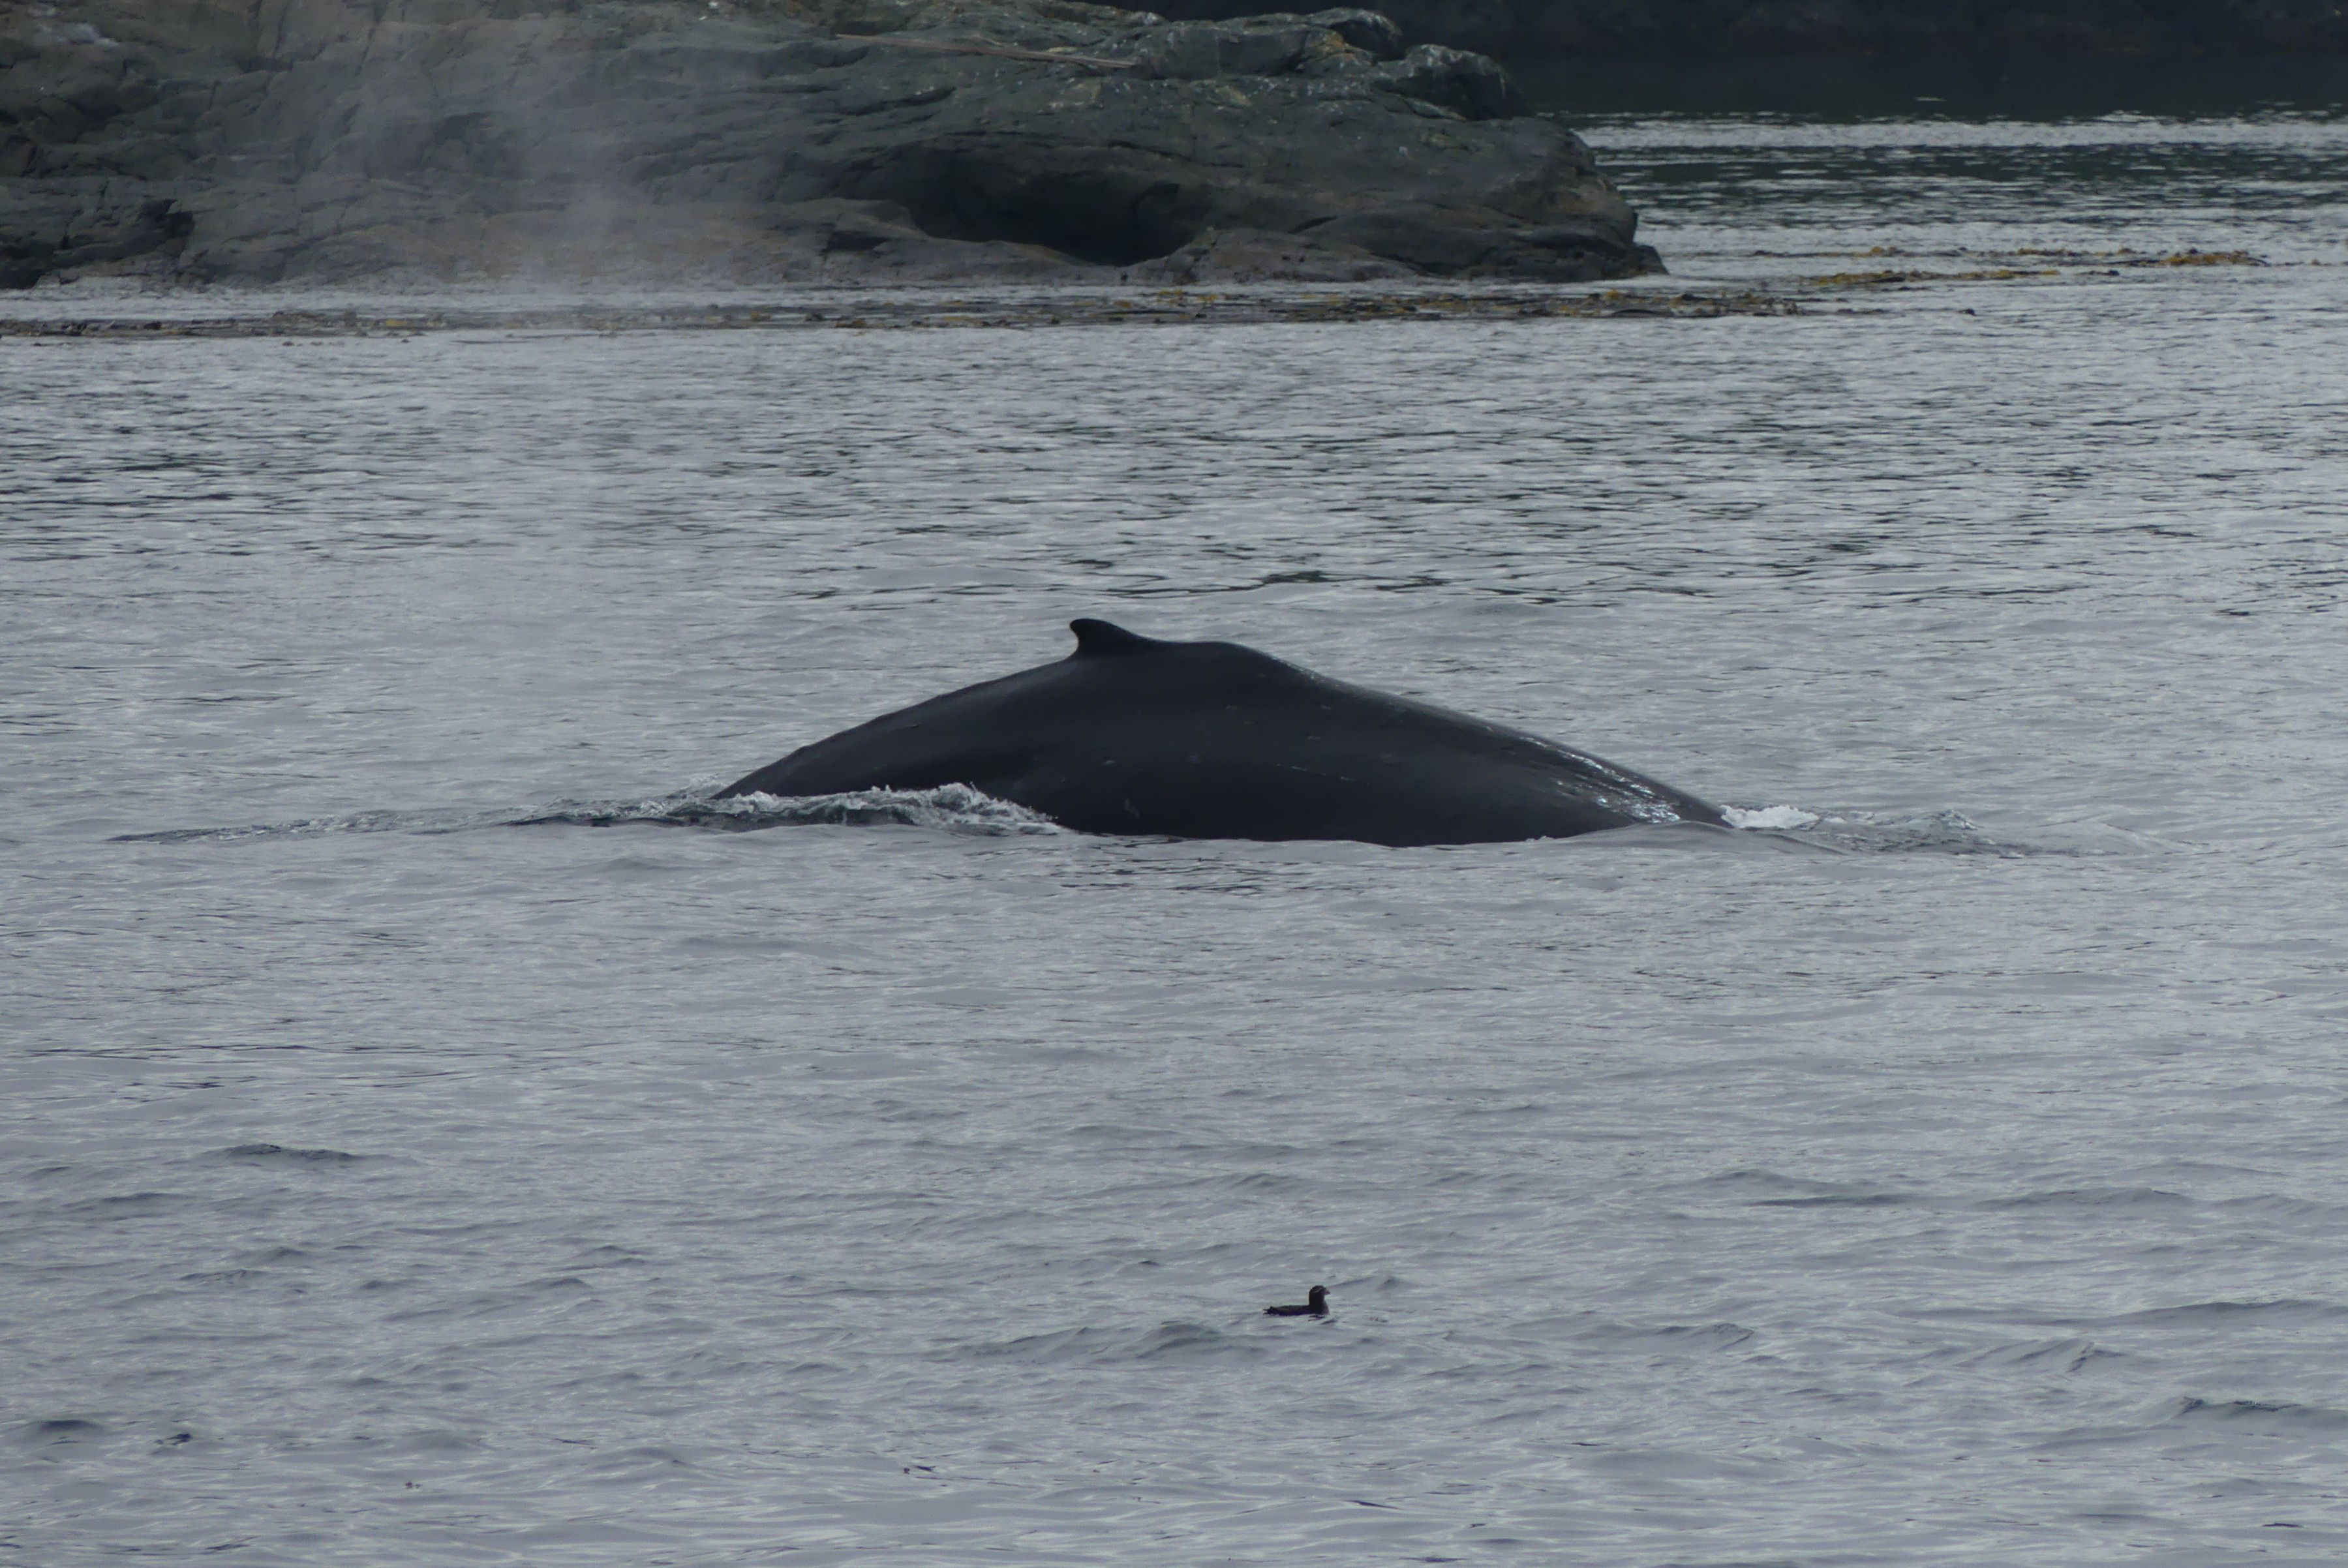fin: (992, 611, 1333, 688)
